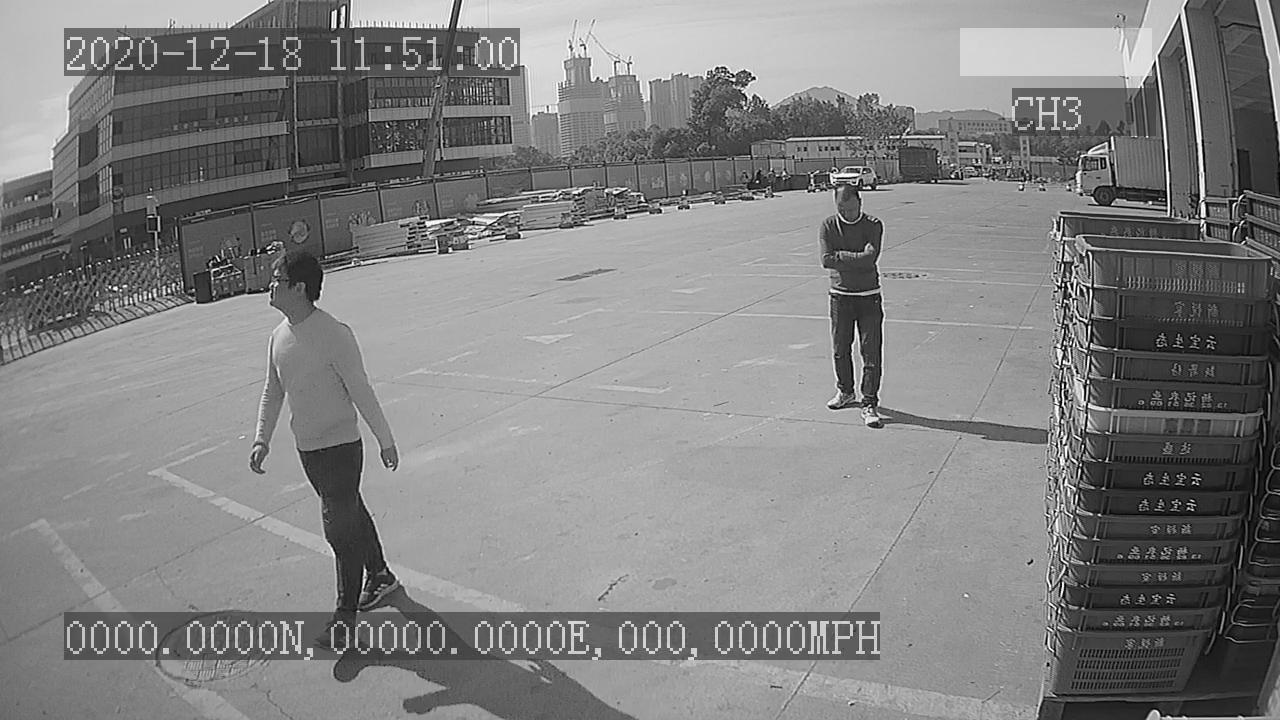person: (811, 181, 895, 436)
